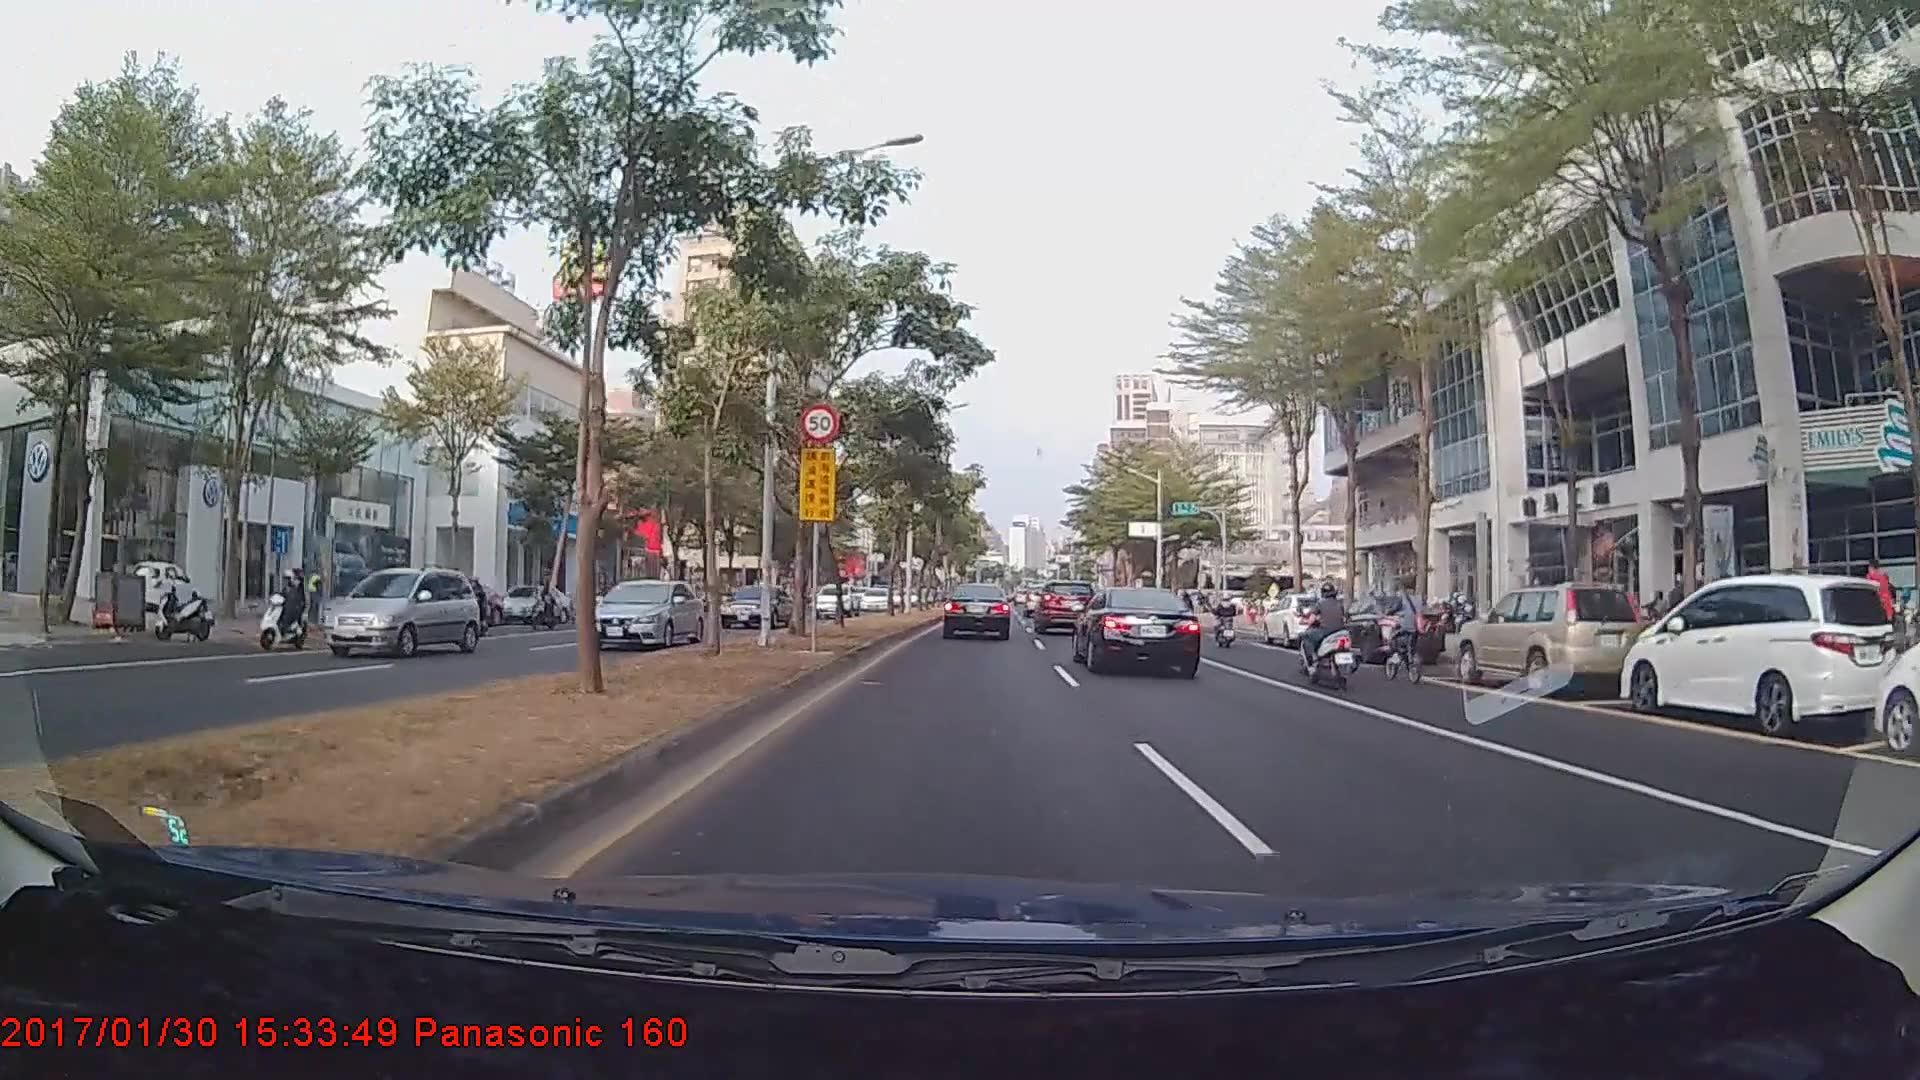rider: (1288, 581, 1365, 695), (1381, 578, 1435, 687), (254, 563, 311, 656), (1302, 589, 1354, 677), (1207, 594, 1242, 650)
vehicle: (1618, 570, 1902, 741), (1456, 586, 1642, 697), (317, 562, 481, 660), (1074, 581, 1203, 678), (1871, 582, 1920, 761), (1321, 596, 1443, 667), (590, 581, 705, 654), (1261, 591, 1345, 649), (941, 582, 1013, 641), (715, 584, 790, 630), (1033, 580, 1089, 633), (492, 586, 561, 624), (811, 578, 858, 618)
